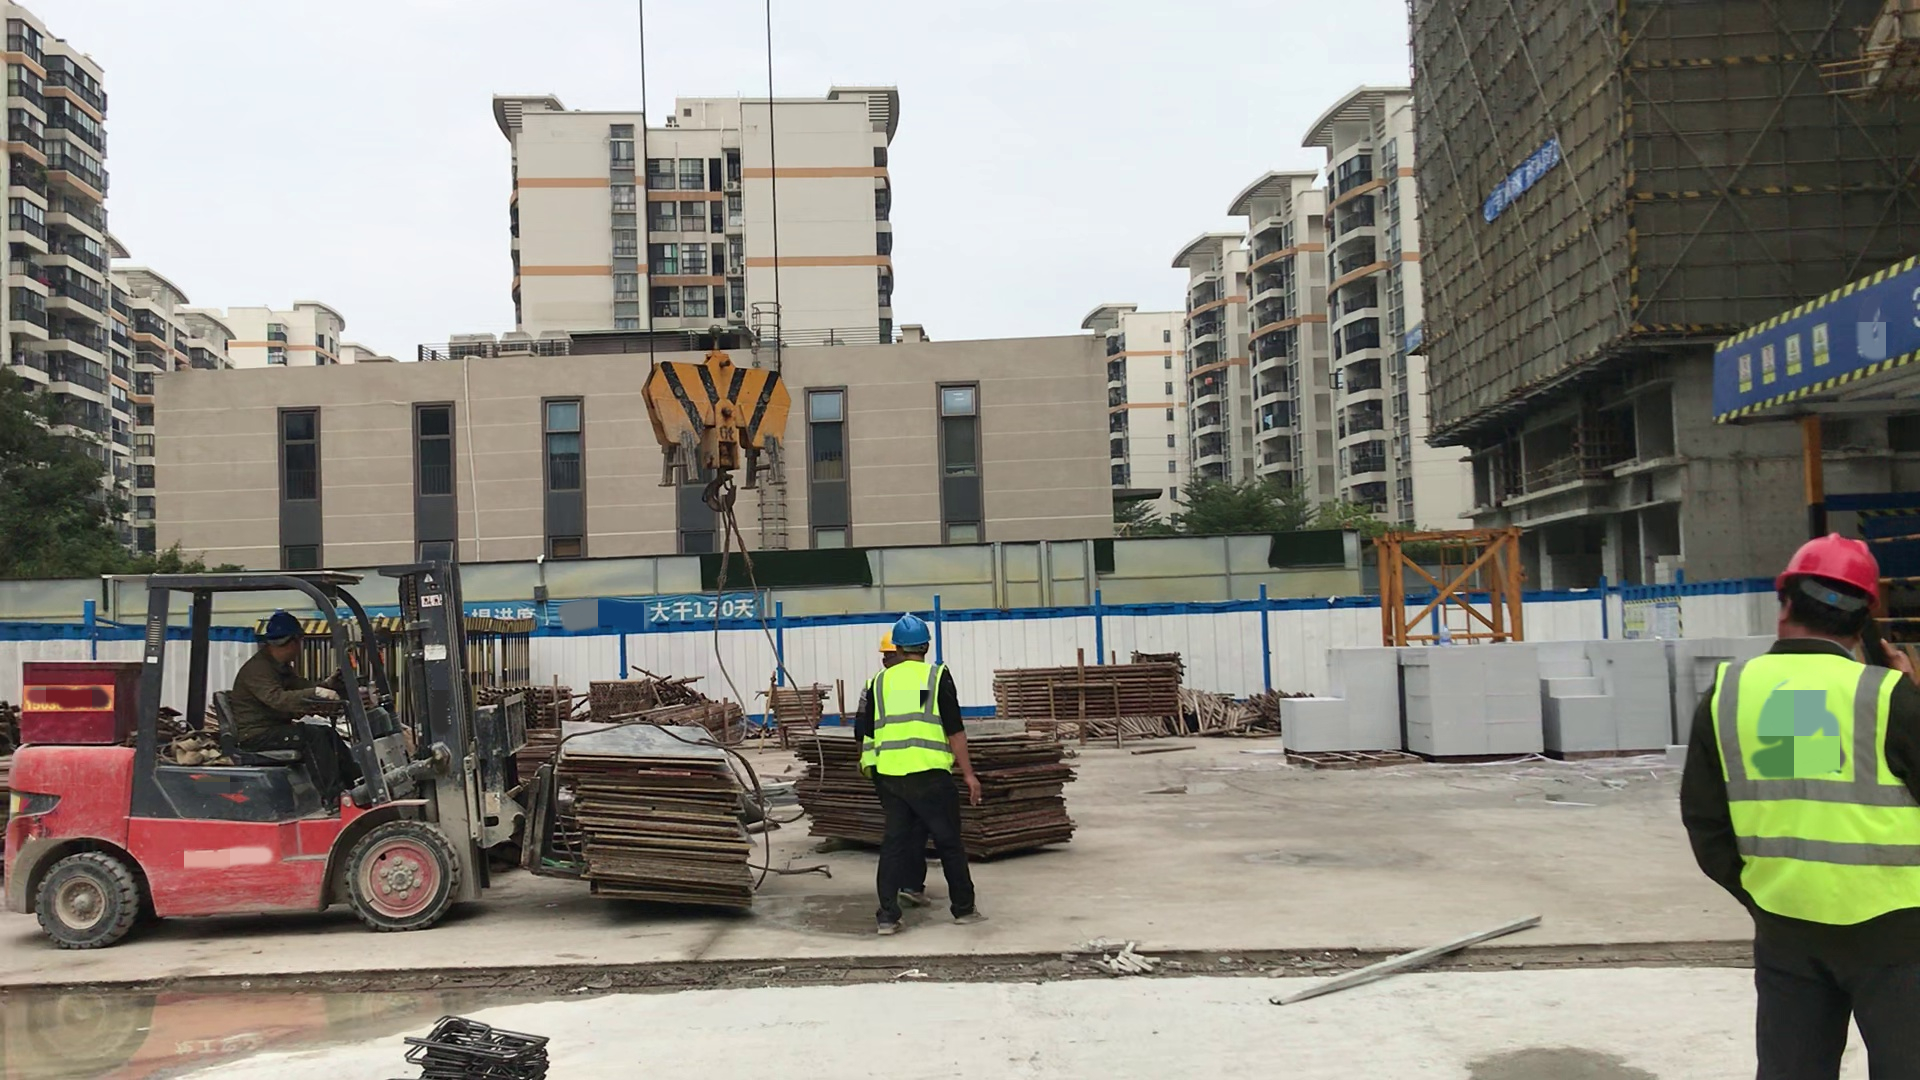board: (787, 711, 1098, 878), (546, 712, 775, 934)
brick: (1252, 627, 1795, 812)
helmet: (1779, 514, 1889, 637), (258, 607, 323, 651), (891, 606, 937, 651), (868, 624, 900, 658)
hook: (626, 314, 845, 542)
person: (1663, 523, 1920, 1075), (854, 603, 1008, 935), (221, 599, 377, 818), (862, 595, 900, 751)
scaffold: (990, 653, 1219, 735), (587, 665, 750, 735), (479, 681, 580, 731), (750, 679, 829, 740)
slogan: (1695, 249, 1920, 427), (376, 592, 783, 639), (1469, 132, 1587, 226), (1390, 315, 1431, 358)
vest: (1695, 649, 1920, 929), (855, 664, 974, 791)
